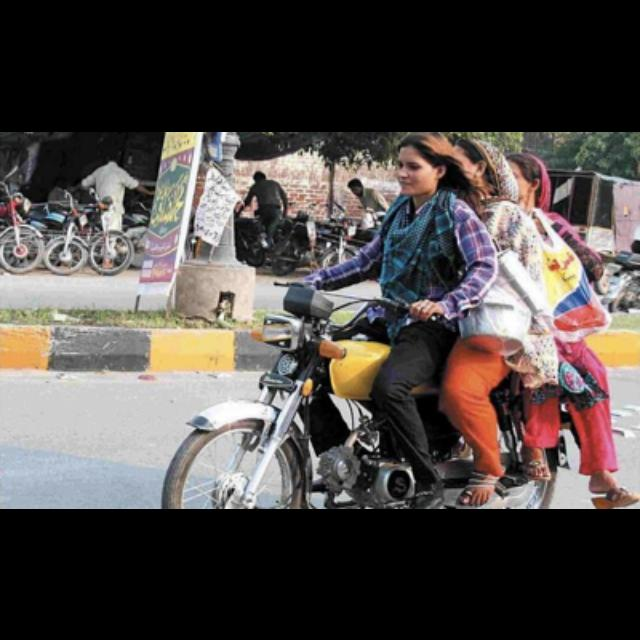Without Helmet: (386, 131, 462, 205)
